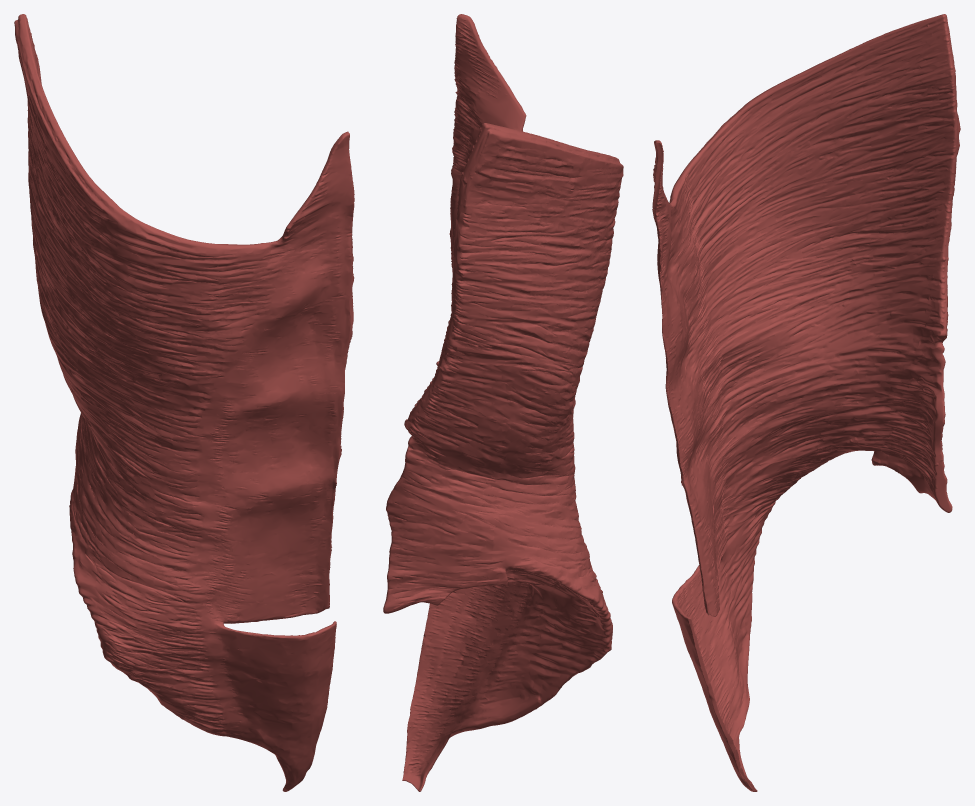
Rendered from FMA22344.glb.
3 renders of one model, left to right at view 1: azimuth 30°, elevation 25°; view 2: azimuth 150°, elevation 25°; view 3: azimuth 270°, elevation 25°, orthographic. The views are drawn at different scales.
Parts seen in each view (by area): view 1: FMA22344; view 2: FMA22344; view 3: FMA22344.
Part boxes in pixels (x1,y1,x2,y2): FMA22344: [14, 14, 354, 791]; FMA22344: [383, 14, 623, 791]; FMA22344: [652, 14, 960, 791].
Size of the model in its own units: 0.1254 by 0.4077 by 0.162.
